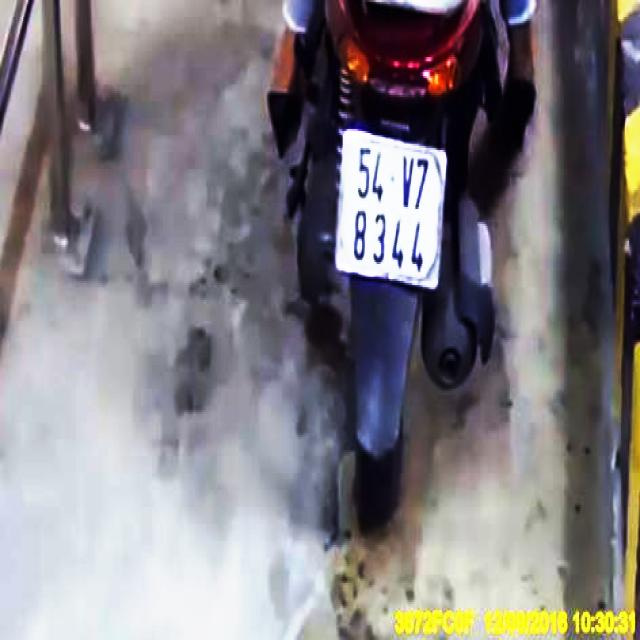license_plate: (336, 133, 449, 294)
